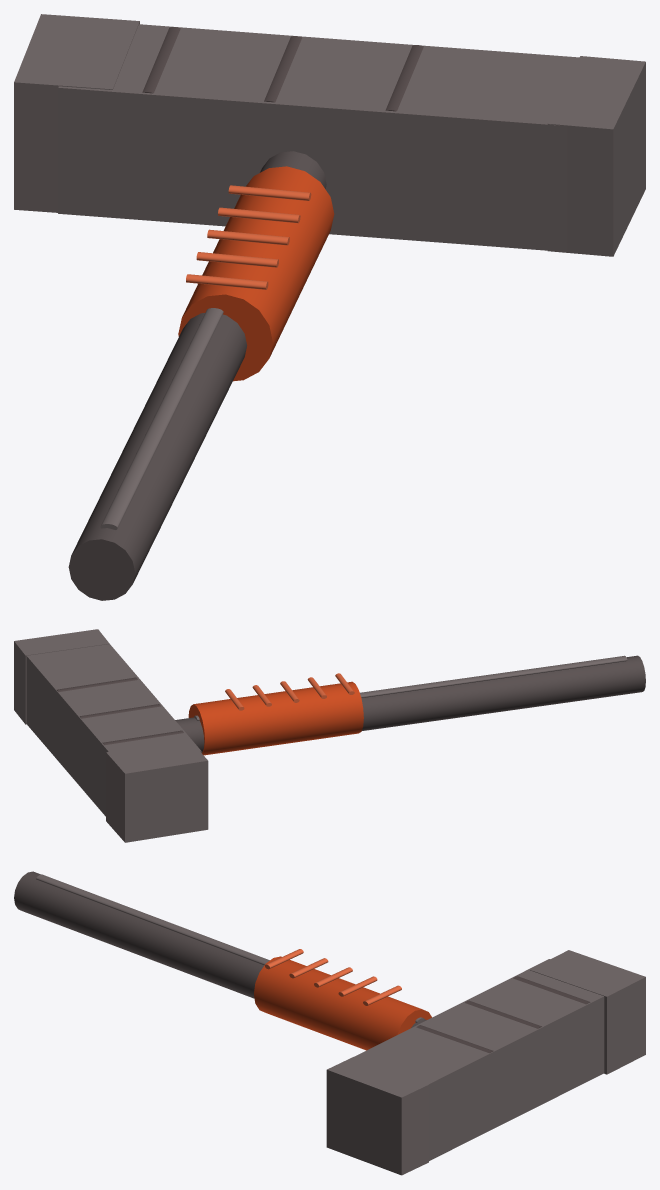
File: CMU3DFieldRMCSynthBreachingHammerCloud.glb
3 views of the same model, one above another, from view 1: azimuth 30°, elevation 25°; view 2: azimuth 150°, elevation 25°; view 3: azimuth 270°, elevation 25° (orthographic). The views are drawn at different scales.
Visible parts, largest first — view 1: broad solid hammer head, long charcoal hammer shaft, right hammer face, orange grip wrap, left hammer face, shaft upper ridge, hammer head forged band 1, hammer head forged band 2, hammer head forged band 0; view 2: broad solid hammer head, long charcoal hammer shaft, left hammer face, orange grip wrap, right hammer face, shaft upper ridge; view 3: broad solid hammer head, right hammer face, long charcoal hammer shaft, orange grip wrap, left hammer face, shaft upper ridge.
Part boxes in pixels (box(x1,y1,x2,y2)): broad solid hammer head: box(58, 24, 579, 251); long charcoal hammer shaft: box(68, 151, 326, 600); right hammer face: box(547, 56, 645, 256); orange grip wrap: box(178, 166, 334, 381); left hammer face: box(14, 14, 139, 212); shaft upper ridge: box(100, 308, 223, 529); hammer head forged band 1: box(264, 36, 302, 102); hammer head forged band 2: box(385, 45, 423, 111); hammer head forged band 0: box(142, 27, 180, 93); broad solid hammer head: box(26, 644, 201, 816); long charcoal hammer shaft: box(175, 655, 645, 752); left hammer face: box(106, 739, 208, 842); orange grip wrap: box(188, 681, 363, 755); right hammer face: box(14, 629, 109, 724); shaft upper ridge: box(194, 655, 627, 720); broad solid hammer head: box(354, 959, 604, 1160); right hammer face: box(326, 1057, 428, 1175); long charcoal hammer shaft: box(14, 871, 426, 1027); orange grip wrap: box(254, 956, 431, 1050); left hammer face: box(530, 950, 645, 1074); shaft upper ridge: box(36, 874, 424, 1023).
Bounding box in the file's own units: 0.8144 × 0.114 × 0.8366.
